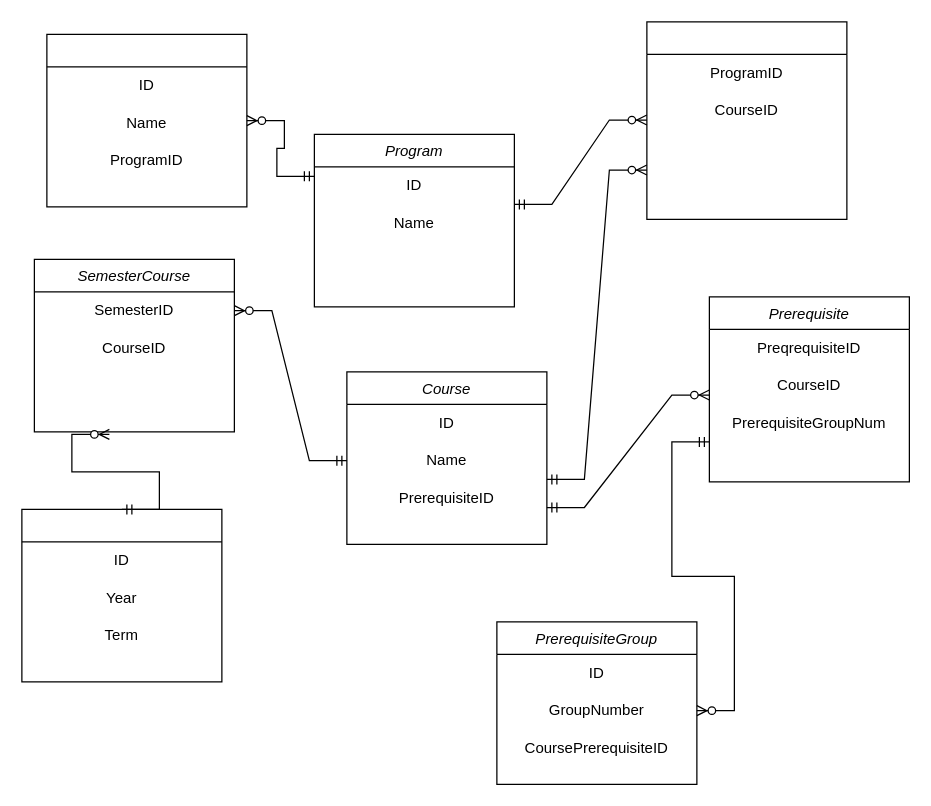
Image size: 931x806. Some labels were removed from this diagram. Each missing label, with the box of its shape:
ProgramCourse: (646, 21, 847, 219)
Semester: (21, 508, 222, 682)
Student: (46, 33, 247, 207)
